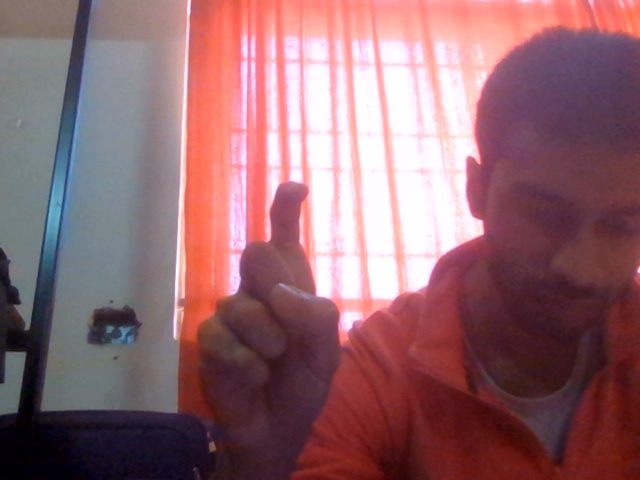X: (169, 162, 395, 474)
